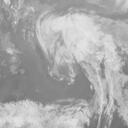cyclone: (37, 9, 115, 82)
